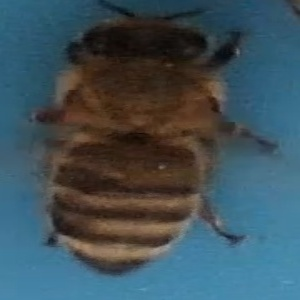bee: (22, 3, 275, 278)
